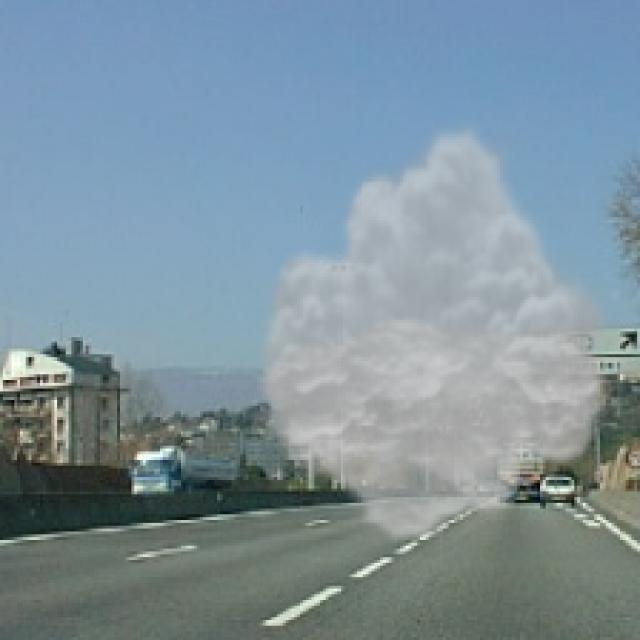Smoke: (248, 120, 618, 546)
